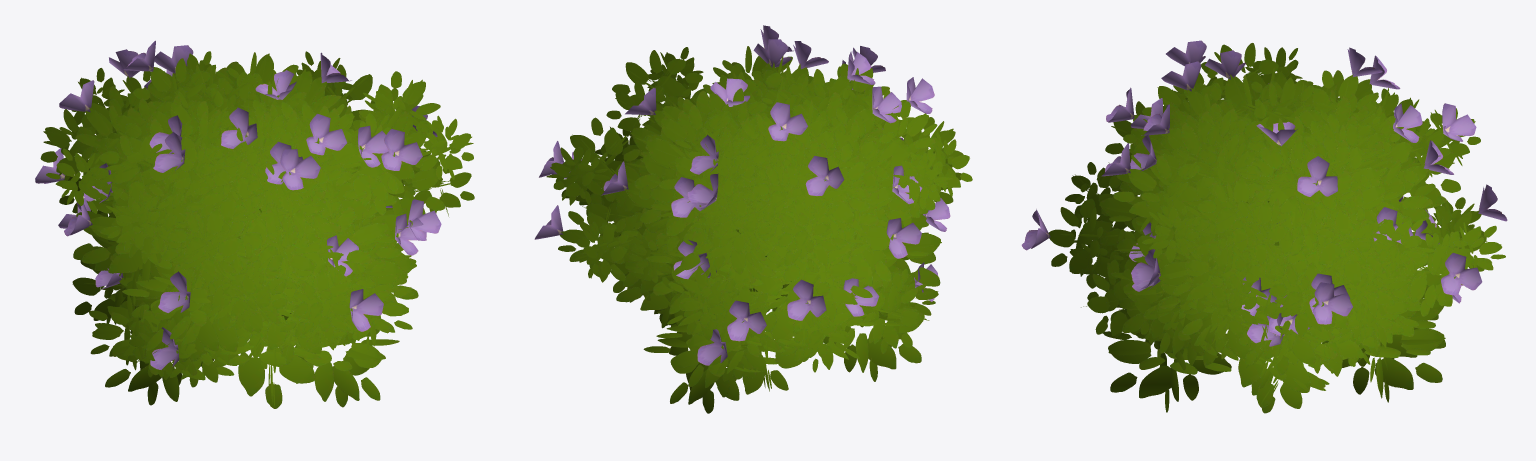
The model's file is Bush_Common_Flowers.gltf.
The picture shows the model from 3 angles, left to right: view 1: azimuth 30°, elevation 25°; view 2: azimuth 150°, elevation 25°; view 3: azimuth 270°, elevation 25°; orthographic projection. The views are drawn at different scales.
Visible parts, largest first — view 1: Bush_Common_Flowers; view 2: Bush_Common_Flowers; view 3: Bush_Common_Flowers.
Part boxes in pixels (x1,y1,x2,y2): Bush_Common_Flowers: [35, 40, 474, 408]; Bush_Common_Flowers: [534, 25, 972, 413]; Bush_Common_Flowers: [1021, 40, 1507, 413].
Size of the model in its own units: 1.91 by 1.58 by 1.97.
Materials: 2 (2 with a texture image).
